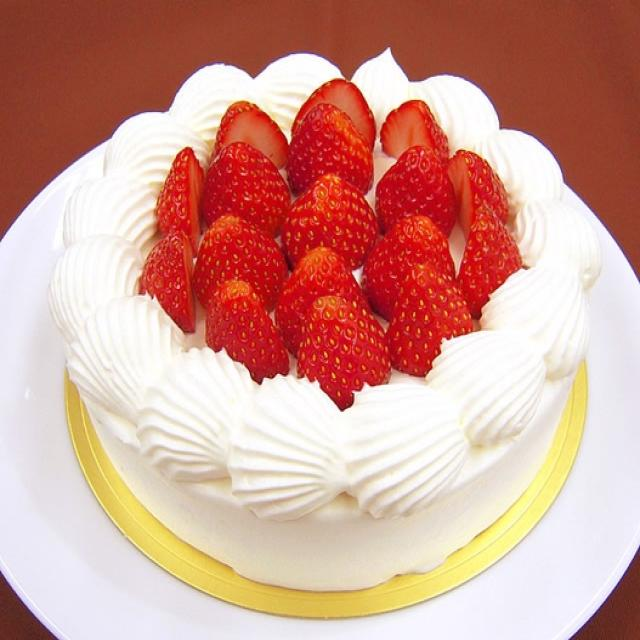蛋糕甜品: (22, 23, 622, 597)
